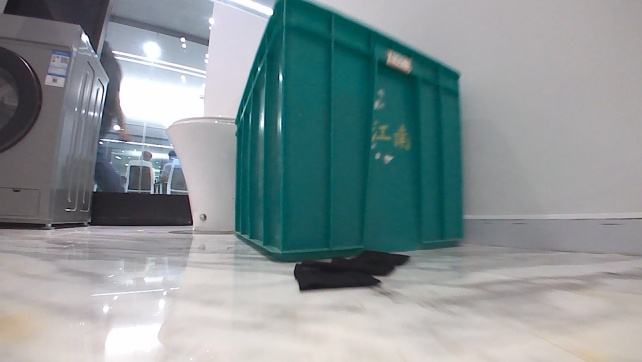socks: (294, 249, 410, 291)
toilet: (165, 110, 237, 236)
washing_machine: (0, 10, 111, 231)
